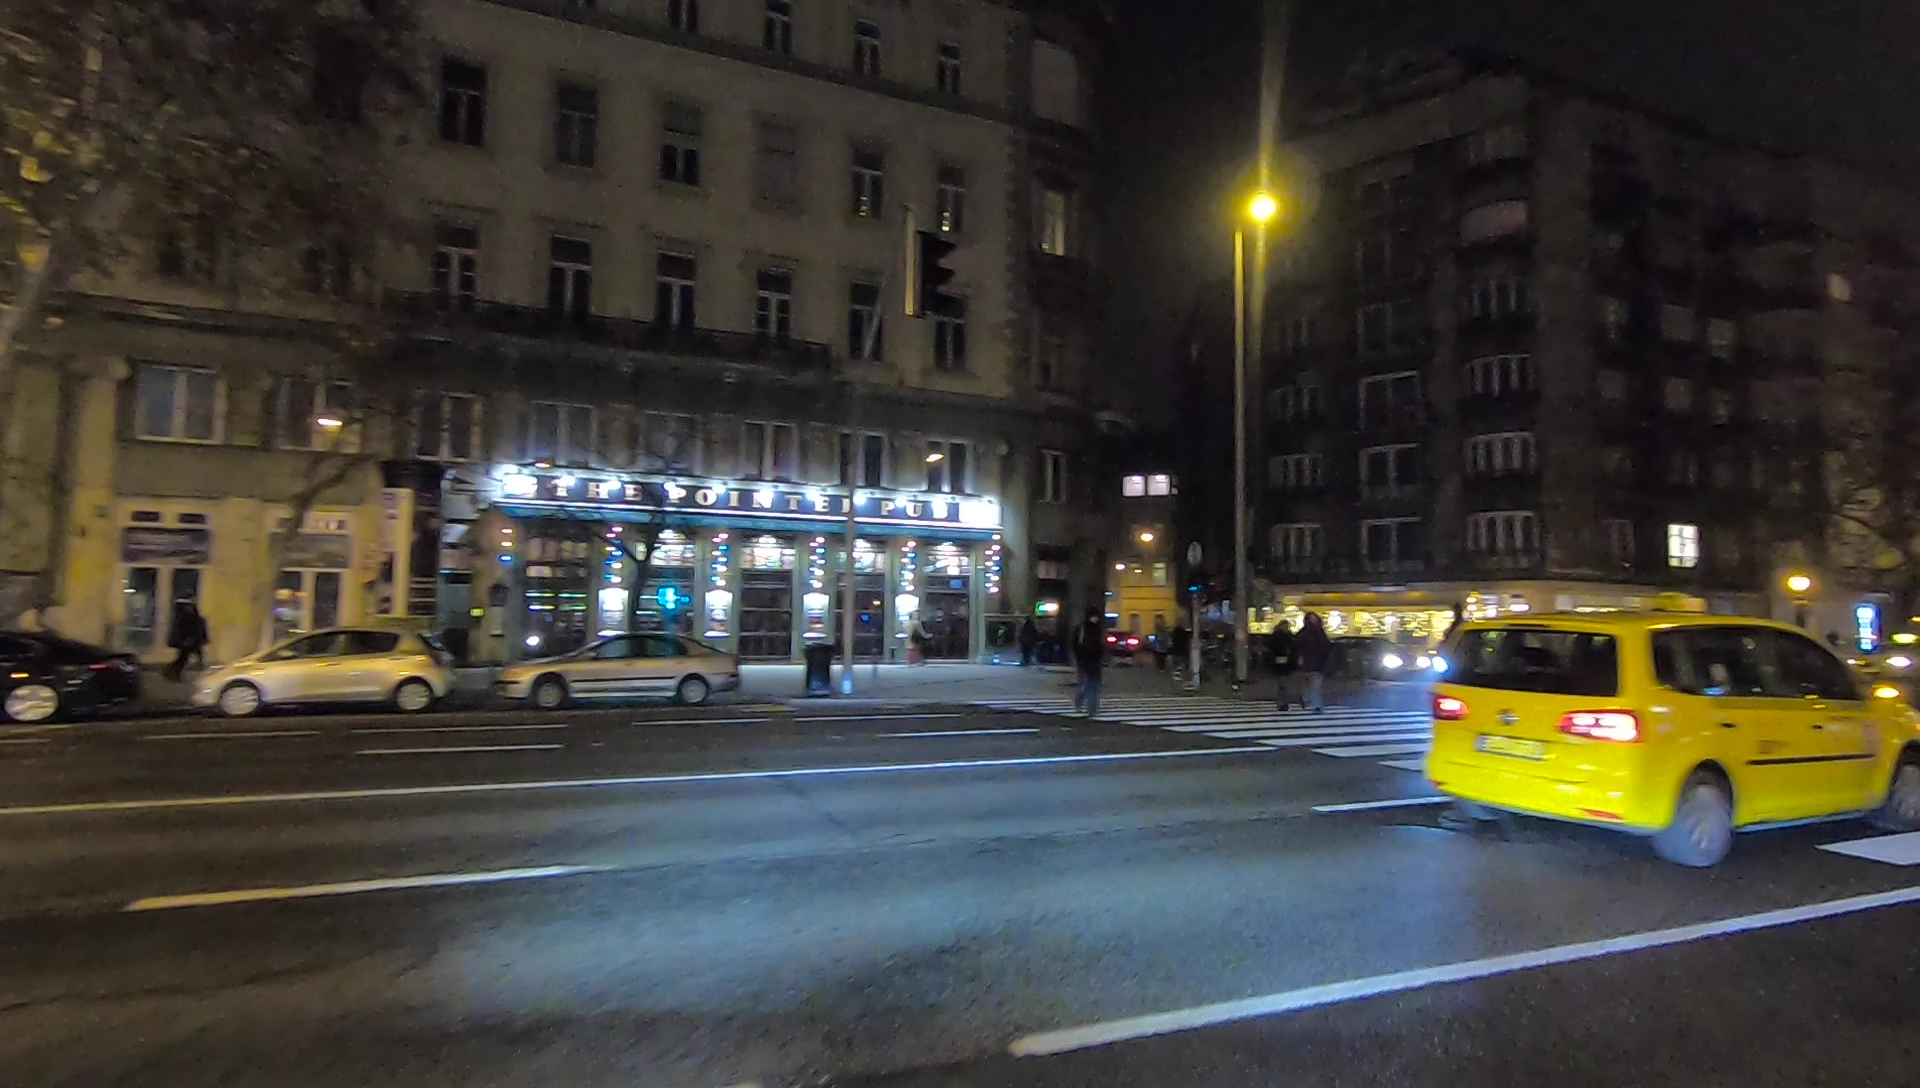person: (1292, 606, 1331, 713), (1070, 609, 1105, 714), (169, 594, 195, 682), (1268, 618, 1291, 712), (901, 614, 928, 667), (1017, 614, 1036, 663)
